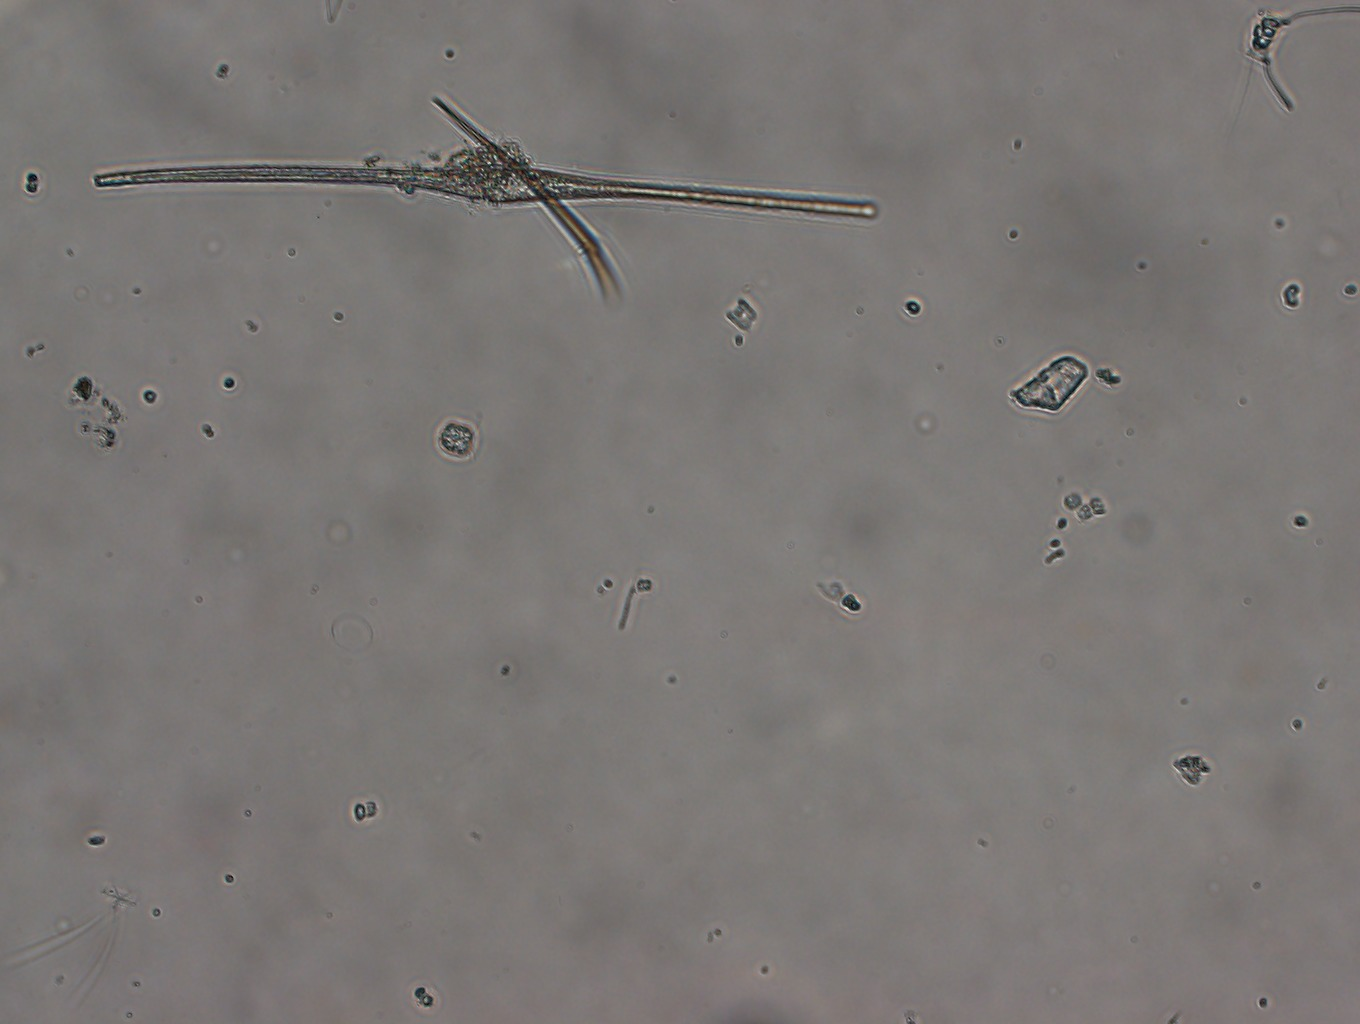ceratium fusus: (91, 124, 884, 231)
